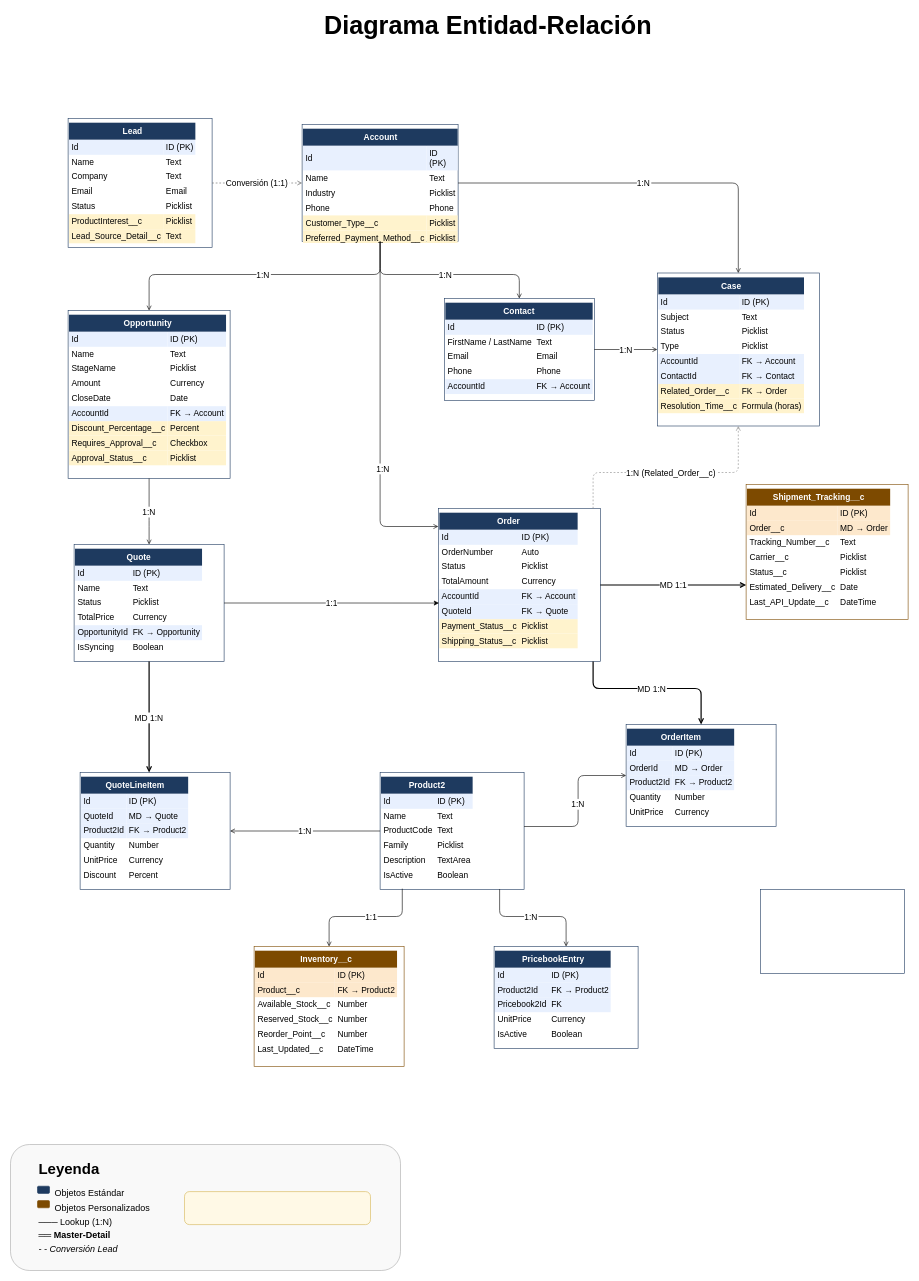
The diagram is 919 pixels wide and 1281 high, and some of its shapes have lost their labels. The centre of each missing label's shape, as x and y in pixels:
"Fondo amarillo = campo personalizado (__c) Fondo azul claro = clave foránea (FK)" goes at [277,1208].
"Knowledge__kav Id ID (PK) Title Text Summary TextArea PublishStatus Picklist" goes at [832,931].
